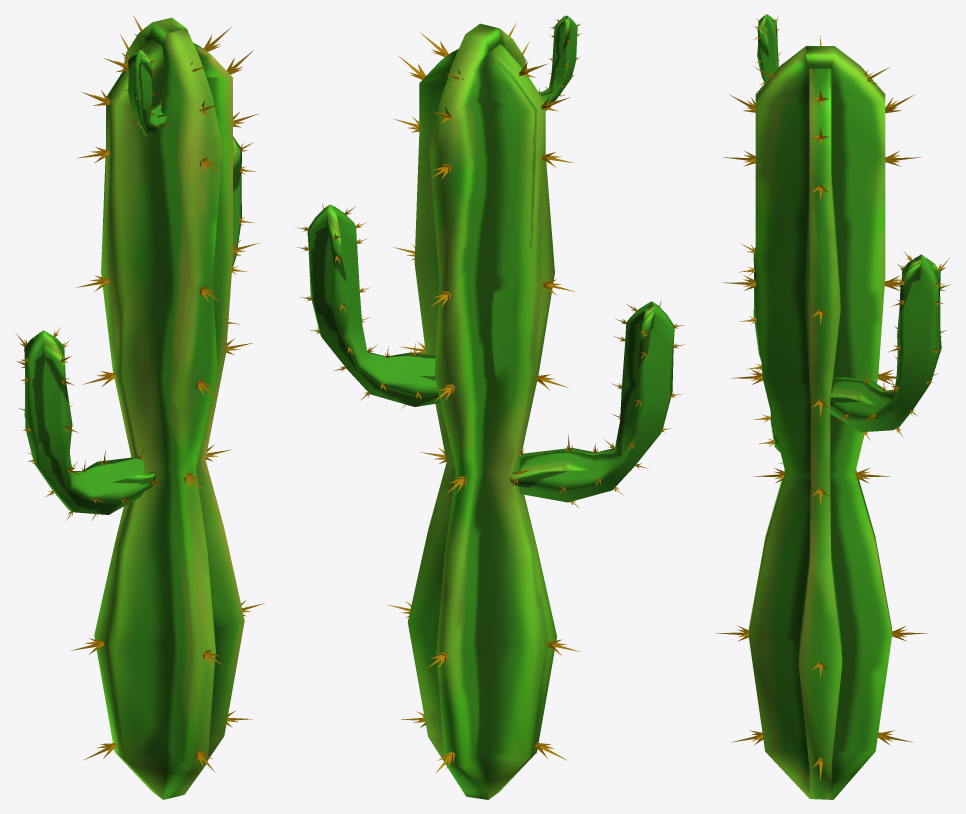
File: mandacaru.glb
The picture shows the model from 3 angles, left to right: view 1: azimuth 30°, elevation 25°; view 2: azimuth 150°, elevation 25°; view 3: azimuth 270°, elevation 25°; orthographic projection. The views are drawn at different scales.
Visible parts, largest first — view 1: pate1, parte2.001, espinhos_1_p1, parte2.002, espinhos_2_p1, parte2; view 2: pate1, parte2.001, parte2, espinhos_1_p1, parte2.002, espinhos_2_p1; view 3: pate1, parte2, espinhos_2_p1, parte2.002, espinhos_1_p1, parte2.001.
Boxes of the visible parts, left/top/right/bottom form: pate1: left=94, top=17, right=244, bottom=799; parte2.001: left=24, top=330, right=155, bottom=514; espinhos_1_p1: left=70, top=27, right=264, bottom=760; parte2.002: left=128, top=50, right=167, bottom=134; espinhos_2_p1: left=120, top=15, right=222, bottom=772; parte2: left=232, top=136, right=241, bottom=267; pate1: left=407, top=23, right=556, bottom=799; parte2.001: left=509, top=301, right=674, bottom=502; parte2: left=307, top=204, right=440, bottom=406; espinhos_1_p1: left=387, top=32, right=580, bottom=760; parte2.002: left=540, top=15, right=577, bottom=110; espinhos_2_p1: left=427, top=22, right=529, bottom=773; pate1: left=748, top=46, right=891, bottom=799; parte2: left=830, top=254, right=941, bottom=432; espinhos_2_p1: left=716, top=66, right=927, bottom=745; parte2.002: left=757, top=14, right=778, bottom=82; espinhos_1_p1: left=811, top=35, right=828, bottom=781; parte2.001: left=753, top=247, right=780, bottom=452.
Size of the model in its own units: 0.26 by 0.6389 by 0.1817.
Materials: 2 (1 with a texture image).
